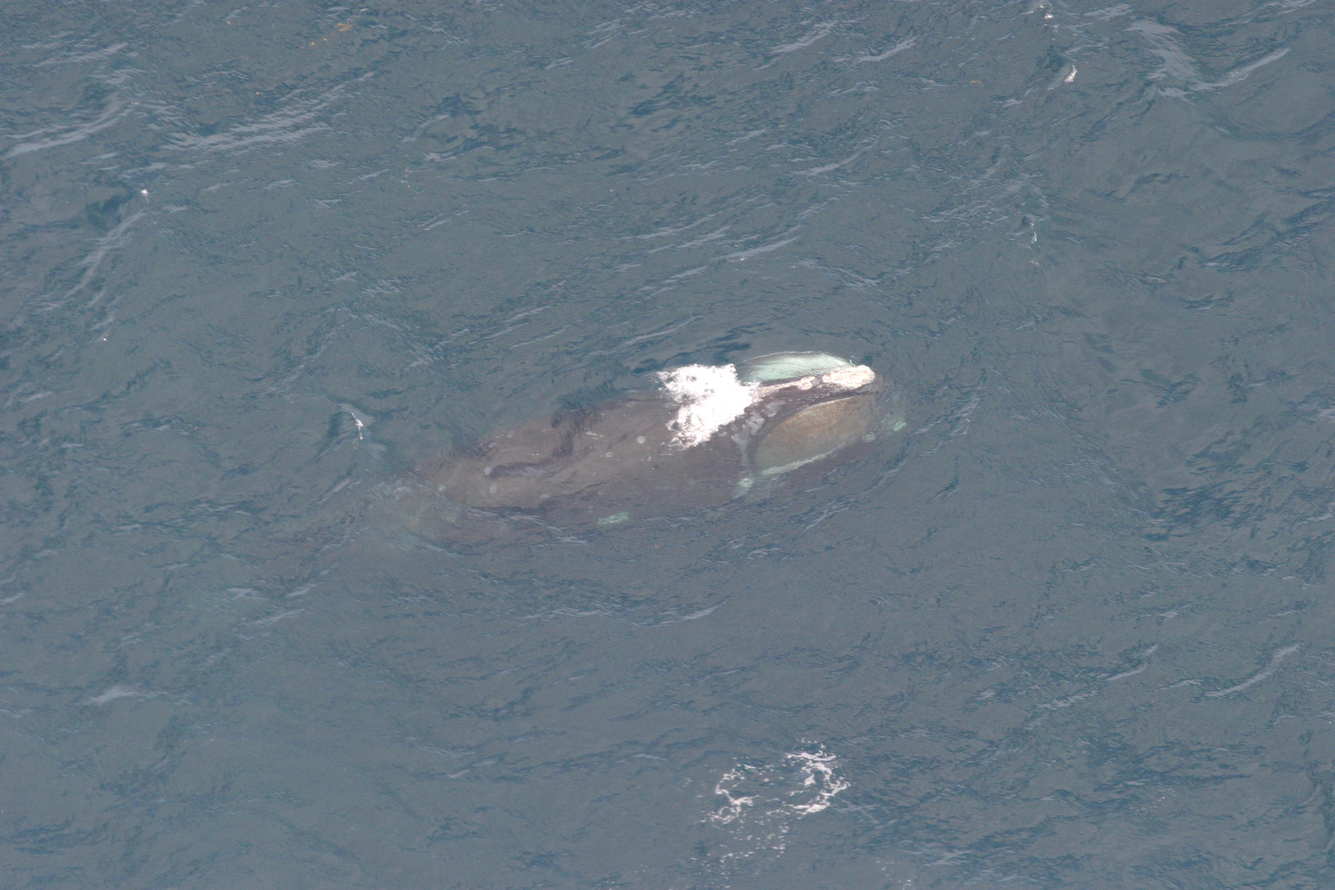whale: (214, 340, 910, 584)
